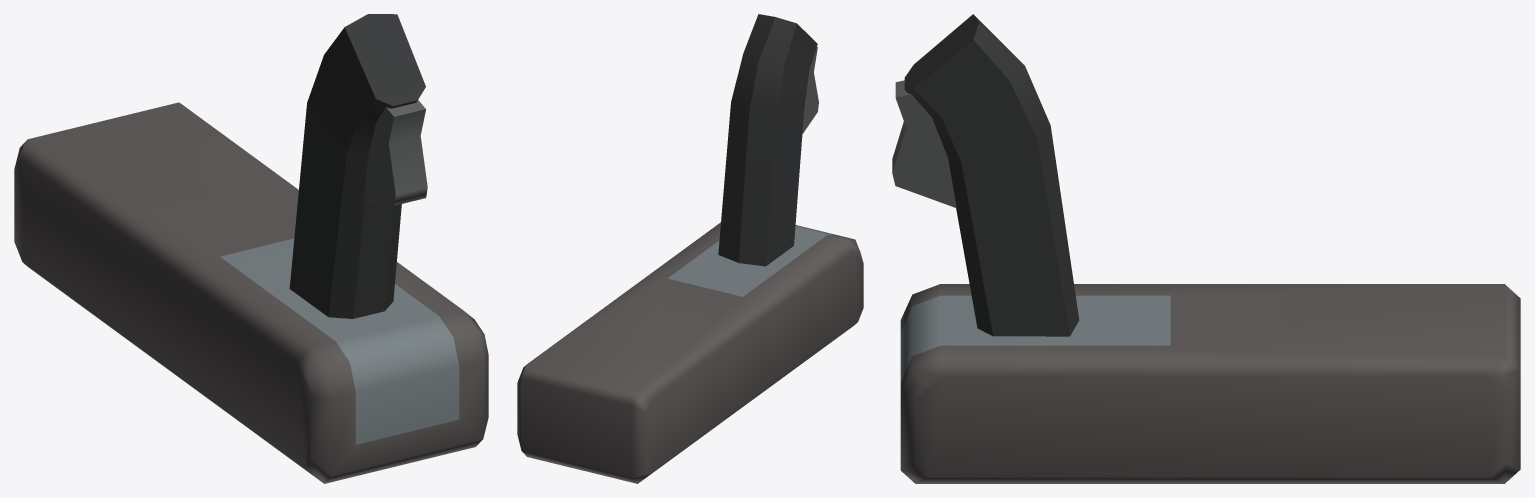
The model's file is Sphere_Vehicle_Seat_L_Armrest_001.fbx.
3 renders of one model, left to right at view 1: azimuth 30°, elevation 25°; view 2: azimuth 150°, elevation 25°; view 3: azimuth 270°, elevation 25°, orthographic. The views are drawn at different scales.
Visible parts, largest first — view 1: Sphere_Vehicle_Seat_L_Armrest_001; view 2: Sphere_Vehicle_Seat_L_Armrest_001; view 3: Sphere_Vehicle_Seat_L_Armrest_001.
Part boxes in pixels (x1=…): Sphere_Vehicle_Seat_L_Armrest_001: x1=14, y1=14, x2=488, y2=483; Sphere_Vehicle_Seat_L_Armrest_001: x1=517, y1=14, x2=863, y2=483; Sphere_Vehicle_Seat_L_Armrest_001: x1=892, y1=14, x2=1520, y2=483.
Bounding box in the file's own units: 12.48 × 38.65 × 28.86.
